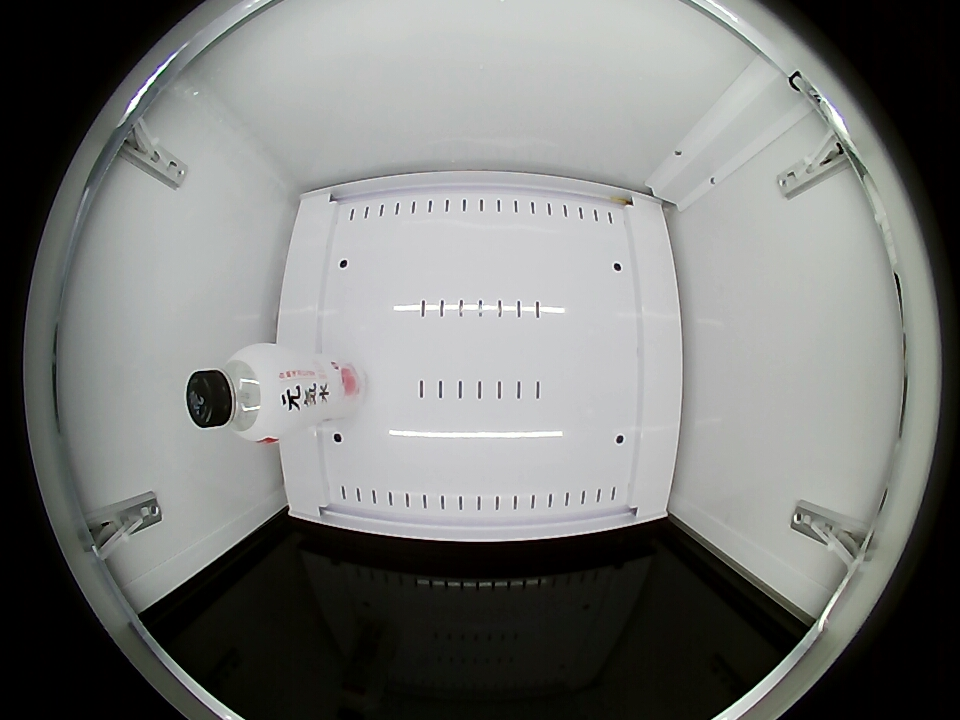yuanqishui: (186, 343, 292, 443)
